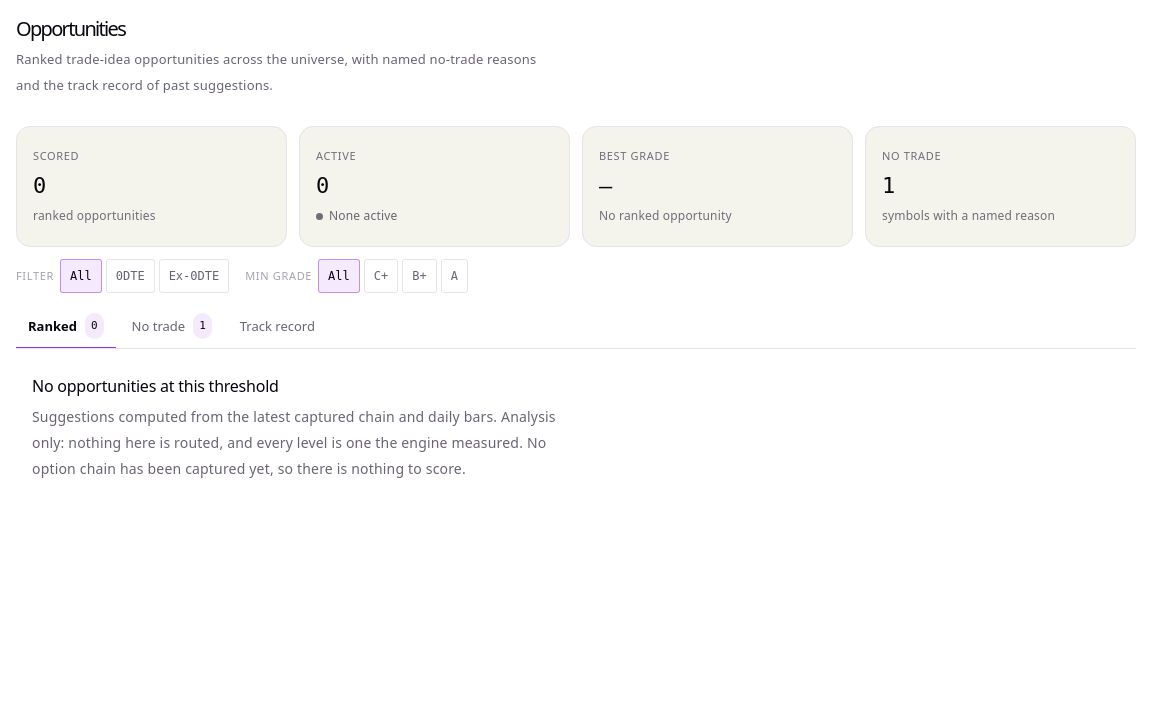
Test: Decisions page › renders an empty state when nothing is ranked, never a blank page
The width and height of the screenshot is (1152, 720).
expect the element "No opportunities at this threshold" is shown: met, box [16,361,608,510]
Step 1. Click the tab "No trade 1" → x=172, y=327, box [120,305,224,349]
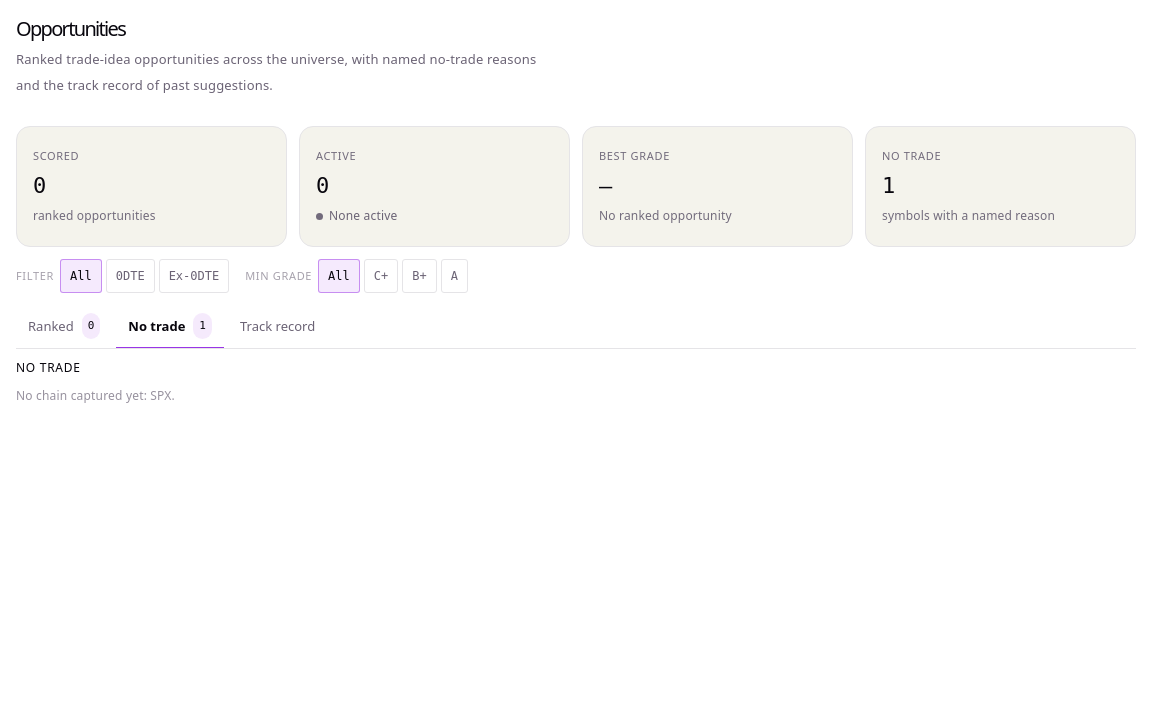
expect the text "No chain captured yet: SPX." is shown: met, box [16,387,175,404]
